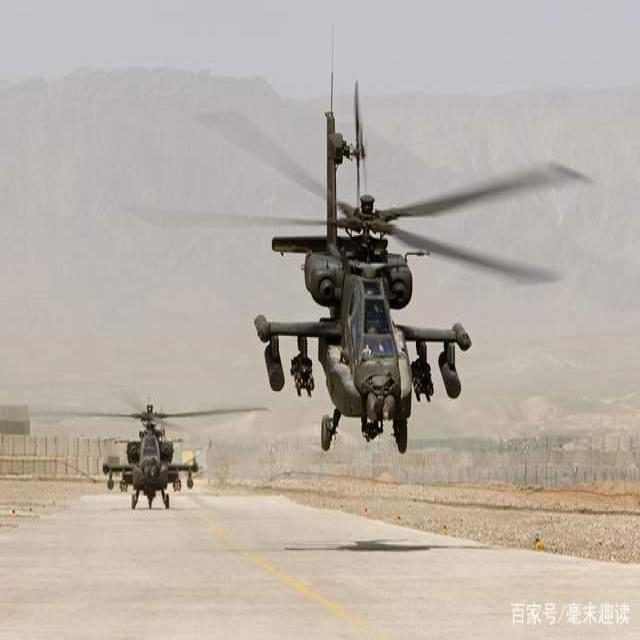MIL_HELO: (130, 90, 595, 465), (53, 387, 274, 516)
